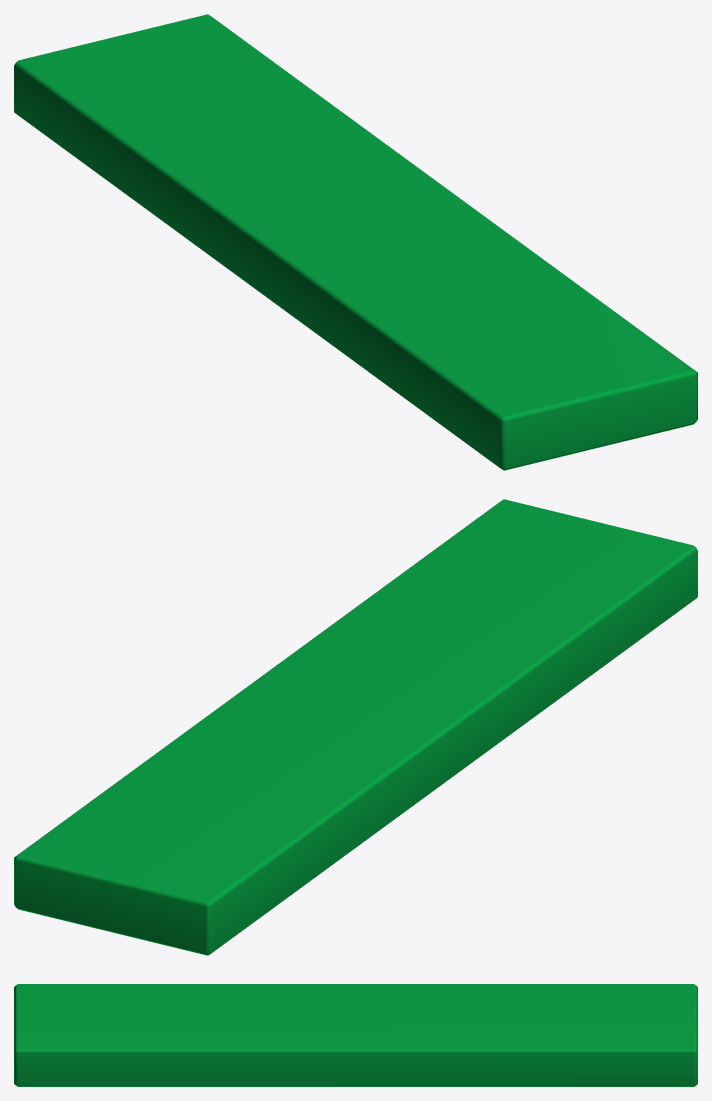
Rendered from City_5_Base_2.glb.
The picture shows the model from 3 angles, top to bottom: view 1: azimuth 30°, elevation 25°; view 2: azimuth 150°, elevation 25°; view 3: azimuth 270°, elevation 25°; orthographic projection. The views are drawn at different scales.
Visible parts, largest first — view 1: City_5_Base_2; view 2: City_5_Base_2; view 3: City_5_Base_2.
Boxes of the visible parts, x1=… form: City_5_Base_2: x1=14, y1=14, x2=697, y2=470; City_5_Base_2: x1=14, y1=499, x2=697, y2=955; City_5_Base_2: x1=14, y1=984, x2=697, y2=1086.
Size of the model in its own units: 2.38 by 0.6294 by 10.18.
1 material, 1 textured.
